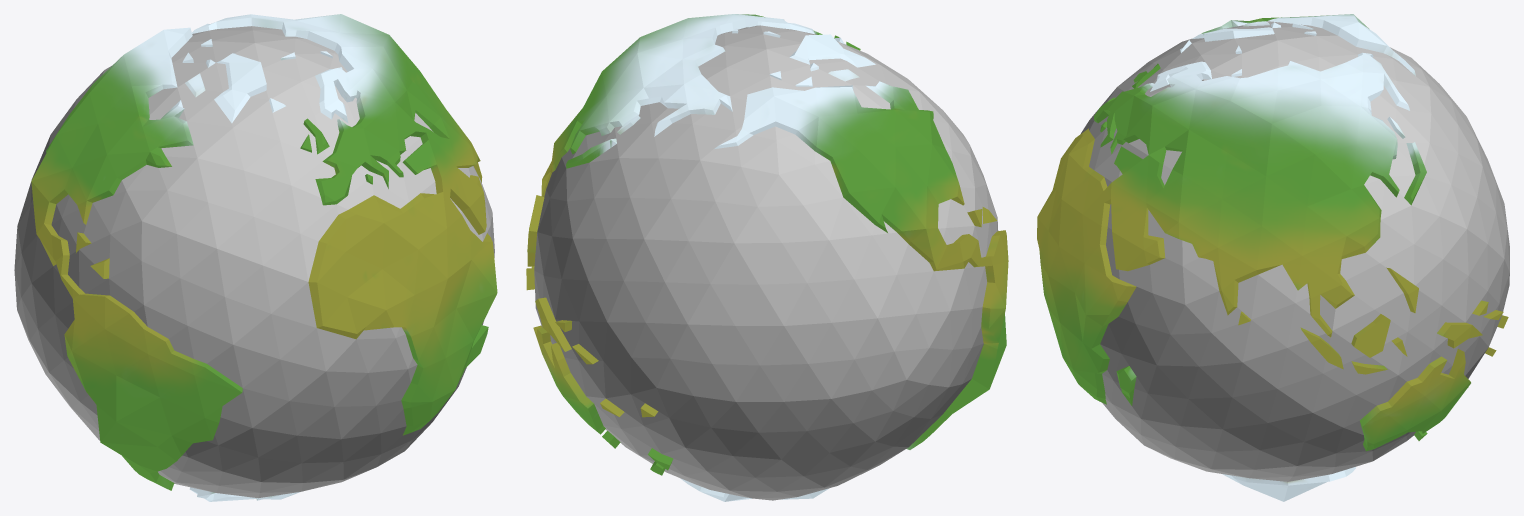
Rendered from earth.gltf.
3 renders of one model, left to right at view 1: azimuth 30°, elevation 25°; view 2: azimuth 150°, elevation 25°; view 3: azimuth 270°, elevation 25°, orthographic. The views are drawn at different scales.
Parts seen in each view (by area): view 1: earth4; view 2: earth4; view 3: earth4.
Part boxes in pixels (x1=…): earth4: x1=14, y1=14, x2=497, y2=501; earth4: x1=526, y1=14, x2=1008, y2=501; earth4: x1=1037, y1=14, x2=1509, y2=501.
Size of the model in its own units: 0.1733 by 0.1794 by 0.1729.
